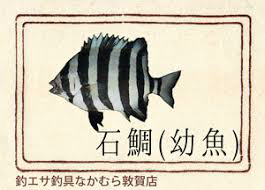azi: (44, 35, 178, 126)
